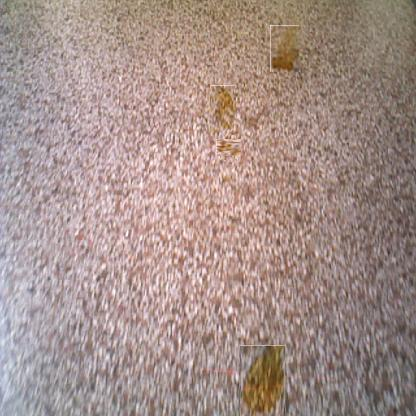liquid: (240, 345, 286, 416), (270, 25, 299, 72), (210, 85, 234, 130), (218, 137, 240, 158)
